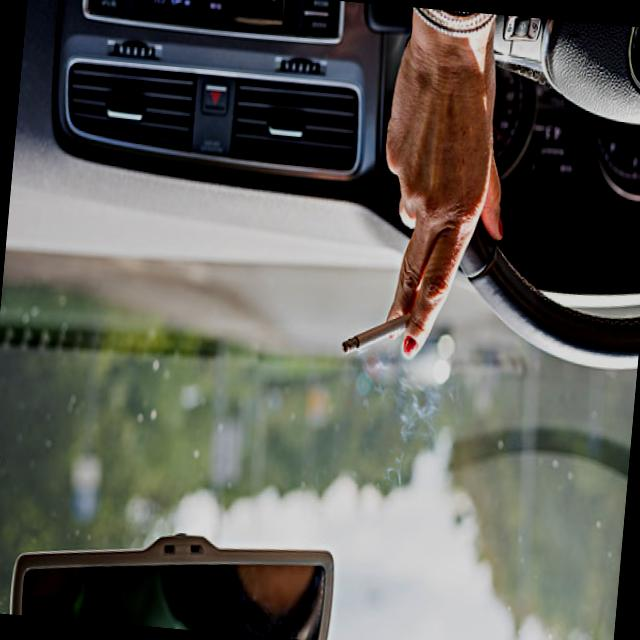cigarette: (336, 308, 405, 365)
